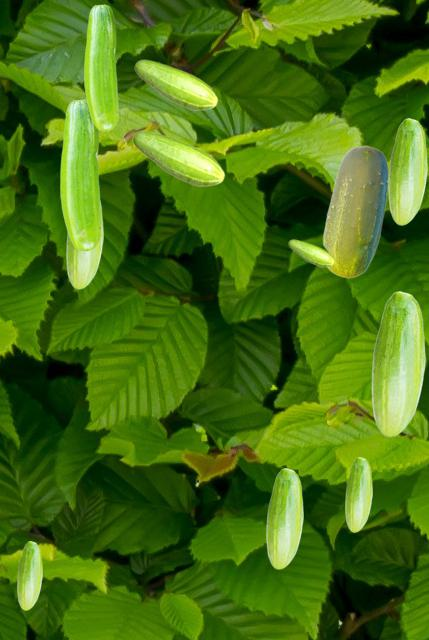cucumber: (322, 145, 387, 277), (371, 291, 424, 436), (60, 99, 100, 250), (132, 130, 224, 186), (134, 59, 217, 110), (84, 4, 117, 130), (388, 118, 426, 224), (266, 468, 302, 568), (66, 202, 102, 288), (345, 457, 371, 531), (17, 541, 41, 609), (288, 239, 333, 266)
